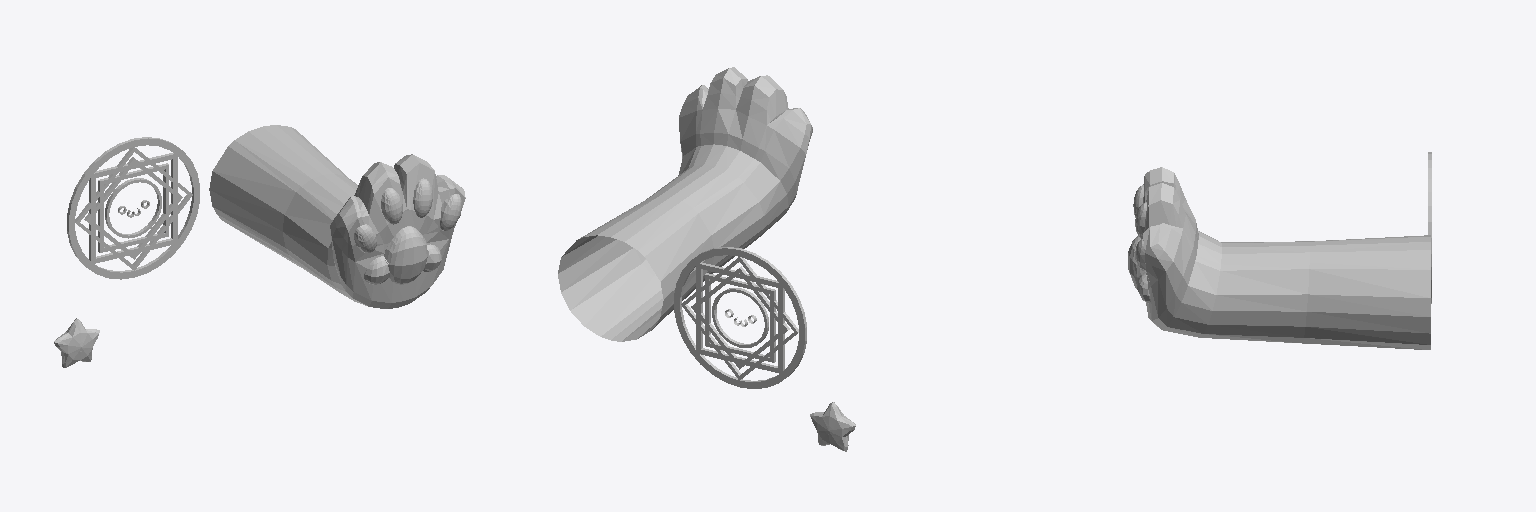
File: MSH_PRT_Hechicero.obj
3 views of the same model, side by side, from view 1: azimuth 30°, elevation 25°; view 2: azimuth 150°, elevation 25°; view 3: azimuth 270°, elevation 25° (orthographic).
Parts seen in each view (by area): view 1: MSH_Patita, Object001, MSH_Estrella; view 2: MSH_Patita, Object001, MSH_Estrella; view 3: MSH_Patita.
Boxes of the visible parts, <box> form: MSH_Patita: <box>209,125,465,308</box>; Object001: <box>67,137,199,279</box>; MSH_Estrella: <box>54,318,99,367</box>; MSH_Patita: <box>558,67,812,341</box>; Object001: <box>674,247,806,388</box>; MSH_Estrella: <box>810,402,855,451</box>; MSH_Patita: <box>1128,167,1430,349</box>.
Size of the model in its own units: 49.69 by 39.55 by 45.